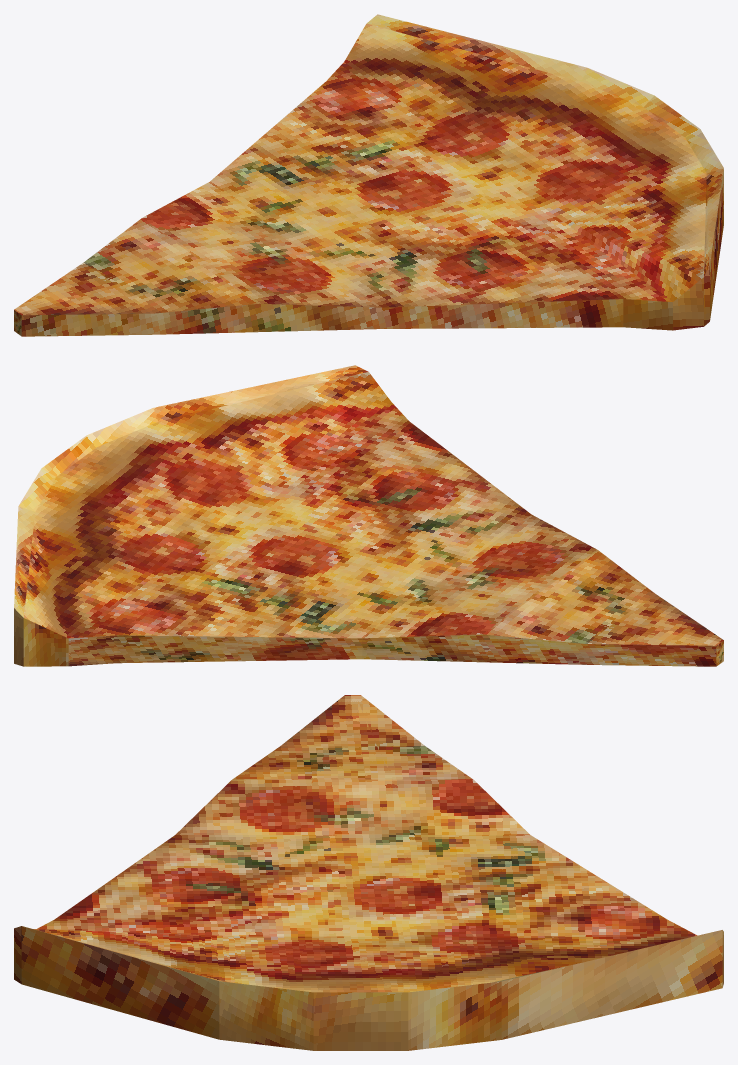
3 views of the same model, one above another, from view 1: azimuth 30°, elevation 25°; view 2: azimuth 150°, elevation 25°; view 3: azimuth 270°, elevation 25° (orthographic). The views are drawn at different scales.
Parts seen in each view (by area): view 1: cuboid; view 2: cuboid; view 3: cuboid.
Part boxes in pixels (x1,y1,x2,y2): cuboid: [14, 14, 723, 336]; cuboid: [14, 365, 723, 666]; cuboid: [14, 695, 723, 1050].
Size of the model in its own units: 1.53 by 0.125 by 1.38.
1 material, 1 textured.
